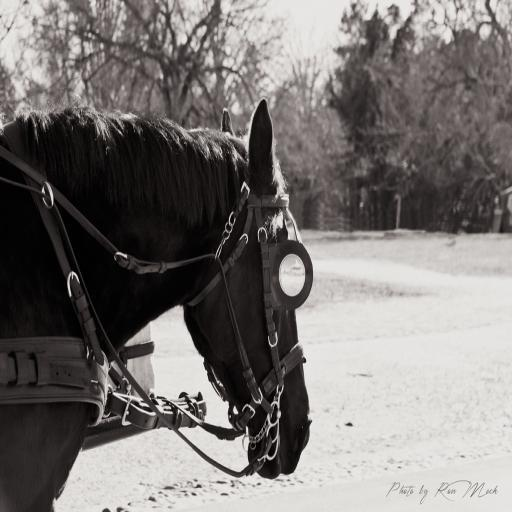horse: (0, 96, 314, 512)
